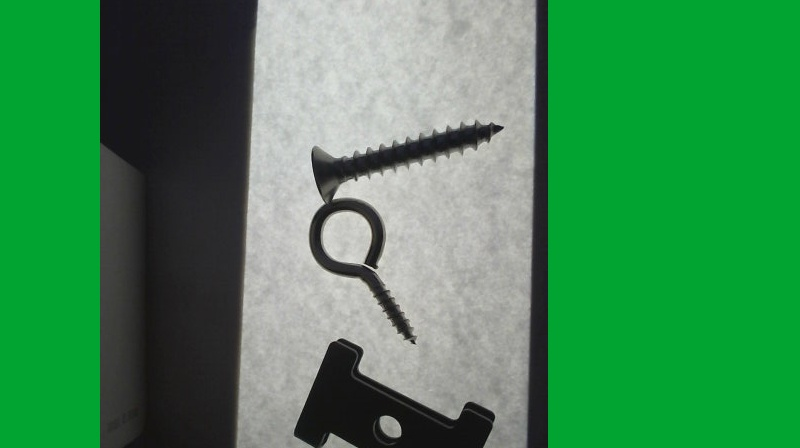O001: (307, 195, 417, 344)
O002: (291, 335, 499, 447)
S001: (303, 116, 505, 204)
